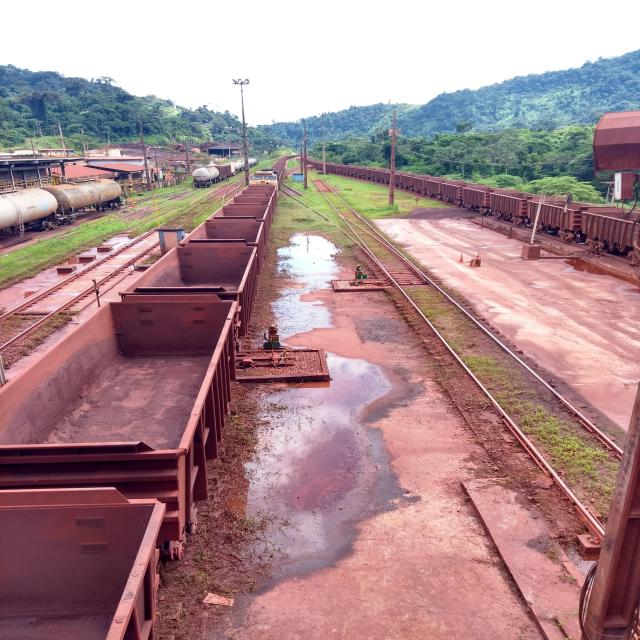gondola: (0, 288, 251, 514), (0, 479, 179, 640), (124, 243, 256, 334), (578, 201, 640, 264), (180, 219, 267, 258), (525, 193, 580, 243), (489, 186, 526, 227), (206, 204, 275, 225), (462, 182, 490, 215), (442, 180, 470, 206), (424, 176, 448, 199), (224, 196, 274, 207), (413, 174, 431, 195), (210, 165, 227, 179)
tank: (0, 176, 60, 241), (39, 172, 125, 216), (188, 167, 222, 189)
